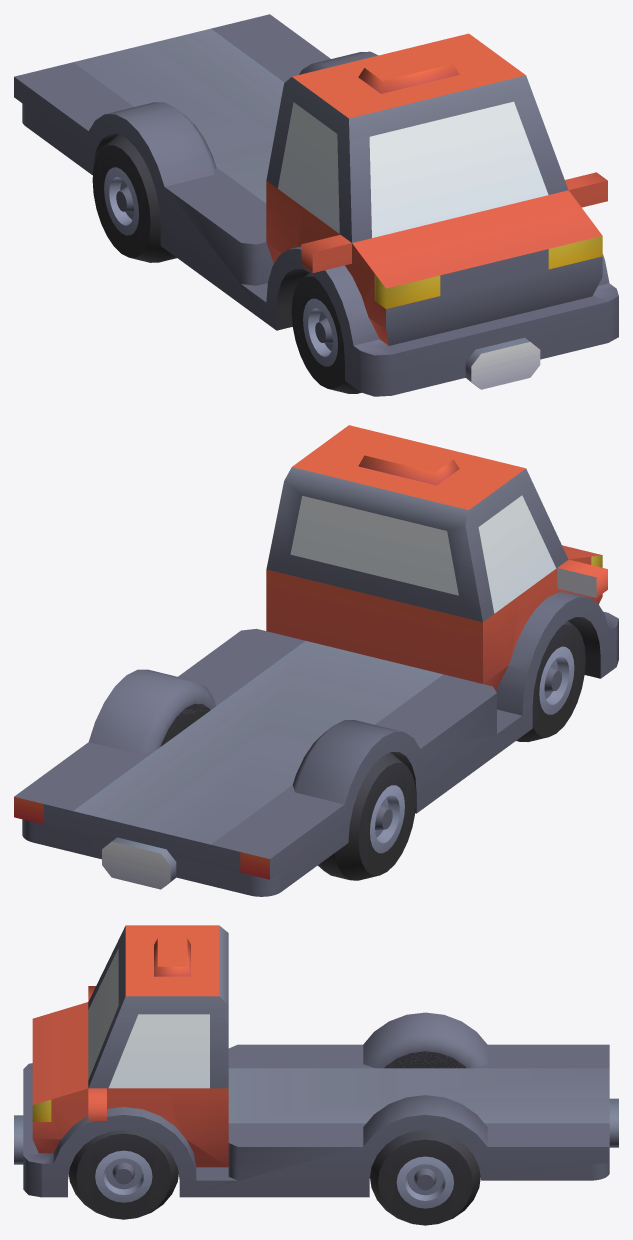
The model's file is k-car-delivery-flat.glb.
3 renders of one model, top to bottom at view 1: azimuth 30°, elevation 25°; view 2: azimuth 150°, elevation 25°; view 3: azimuth 270°, elevation 25°, orthographic. The views are drawn at different scales.
Parts seen in each view (by area): view 1: body, wheel-back-right, wheel-front-right; view 2: body, wheel-back-right, wheel-front-right; view 3: body, wheel-back-left, wheel-front-left.
Boxes of the visible parts, bbox=[...] form: body: bbox=[14, 14, 618, 396]; wheel-back-right: bbox=[92, 134, 176, 262]; wheel-front-right: bbox=[291, 272, 361, 393]; body: bbox=[14, 425, 618, 896]; wheel-back-right: bbox=[318, 752, 416, 880]; wheel-front-right: bbox=[516, 621, 585, 741]; body: bbox=[14, 925, 618, 1197]; wheel-back-left: bbox=[370, 1130, 480, 1225]; wheel-front-left: bbox=[69, 1130, 178, 1219].
Size of the model in its own units: 1.5 by 1.35 by 3.25.
1 material, 1 textured.
